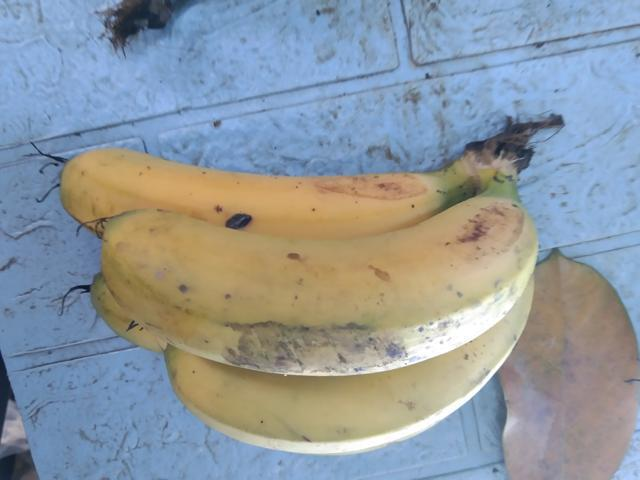ripe: (90, 193, 537, 407)
